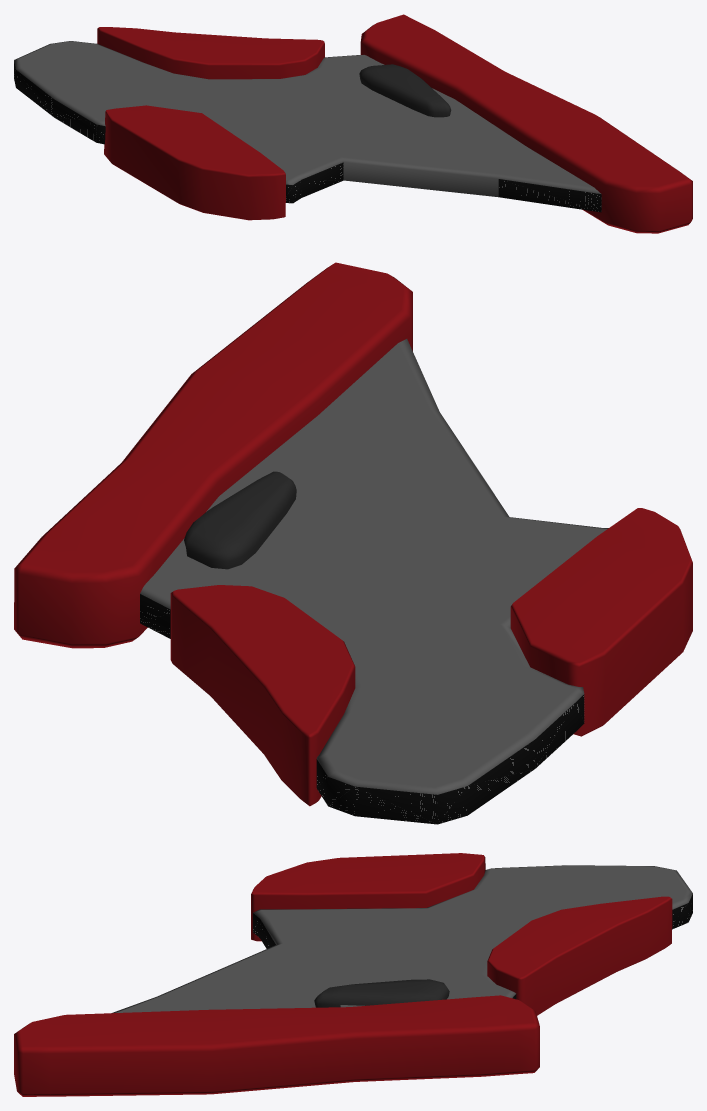
File: Spaceship_main_03_Wing_L.fbx
The picture shows the model from 3 angles, top to bottom: view 1: azimuth 30°, elevation 25°; view 2: azimuth 150°, elevation 25°; view 3: azimuth 270°, elevation 25°; orthographic projection. The views are drawn at different scales.
Visible parts, largest first — view 1: Spaceship_main_03_Wing_L; view 2: Spaceship_main_03_Wing_L; view 3: Spaceship_main_03_Wing_L.
Boxes of the visible parts, bbox=[...] form: Spaceship_main_03_Wing_L: bbox=[14, 14, 692, 233]; Spaceship_main_03_Wing_L: bbox=[14, 262, 692, 824]; Spaceship_main_03_Wing_L: bbox=[14, 853, 692, 1096].
Size of the model in its own units: 226 by 26.61 by 323.
